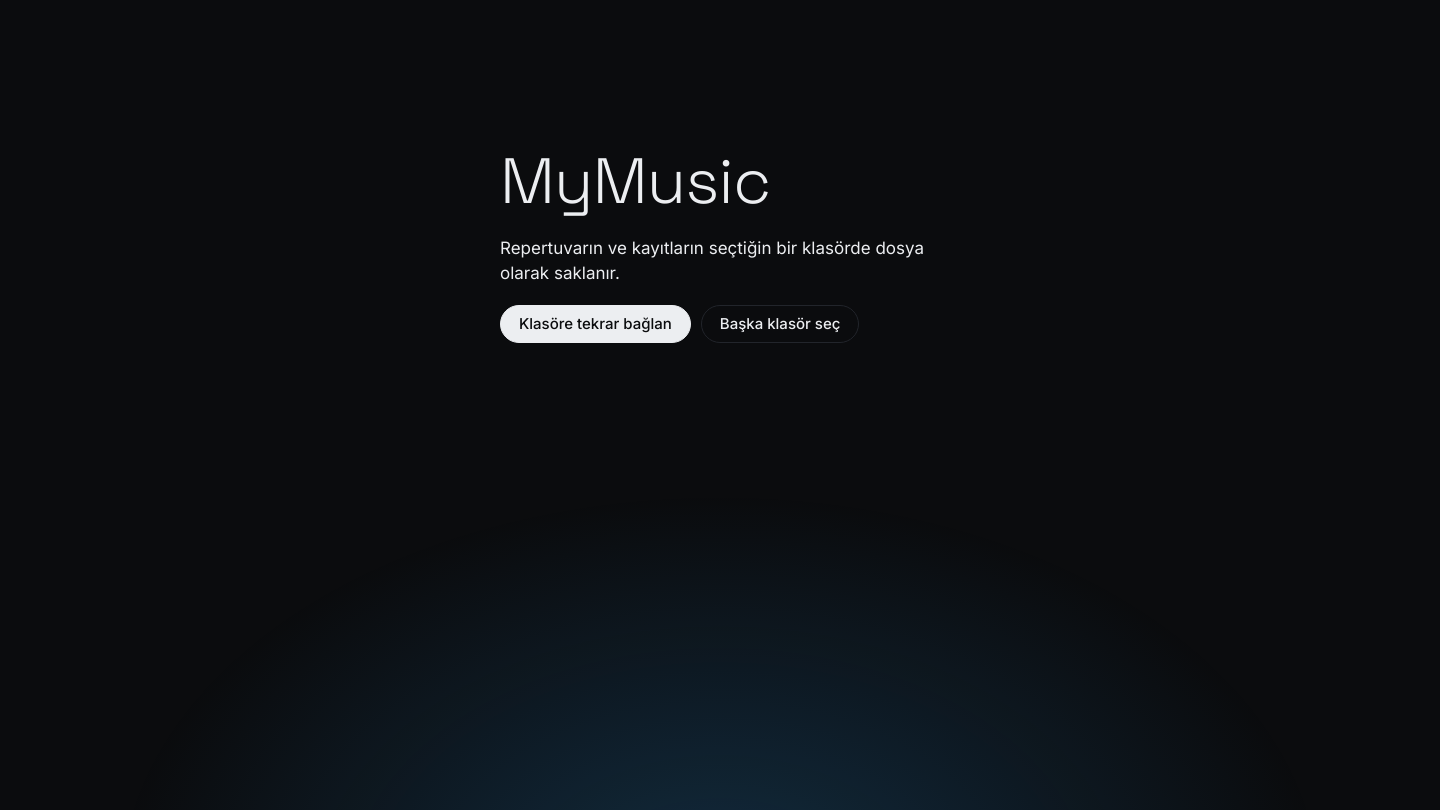
Test: App shell › denied reconnect shows feedback
This screenshot has width=1440, height=810.
Click the button "Klasöre tekrar bağlan": (595, 324) [500, 306, 691, 344]
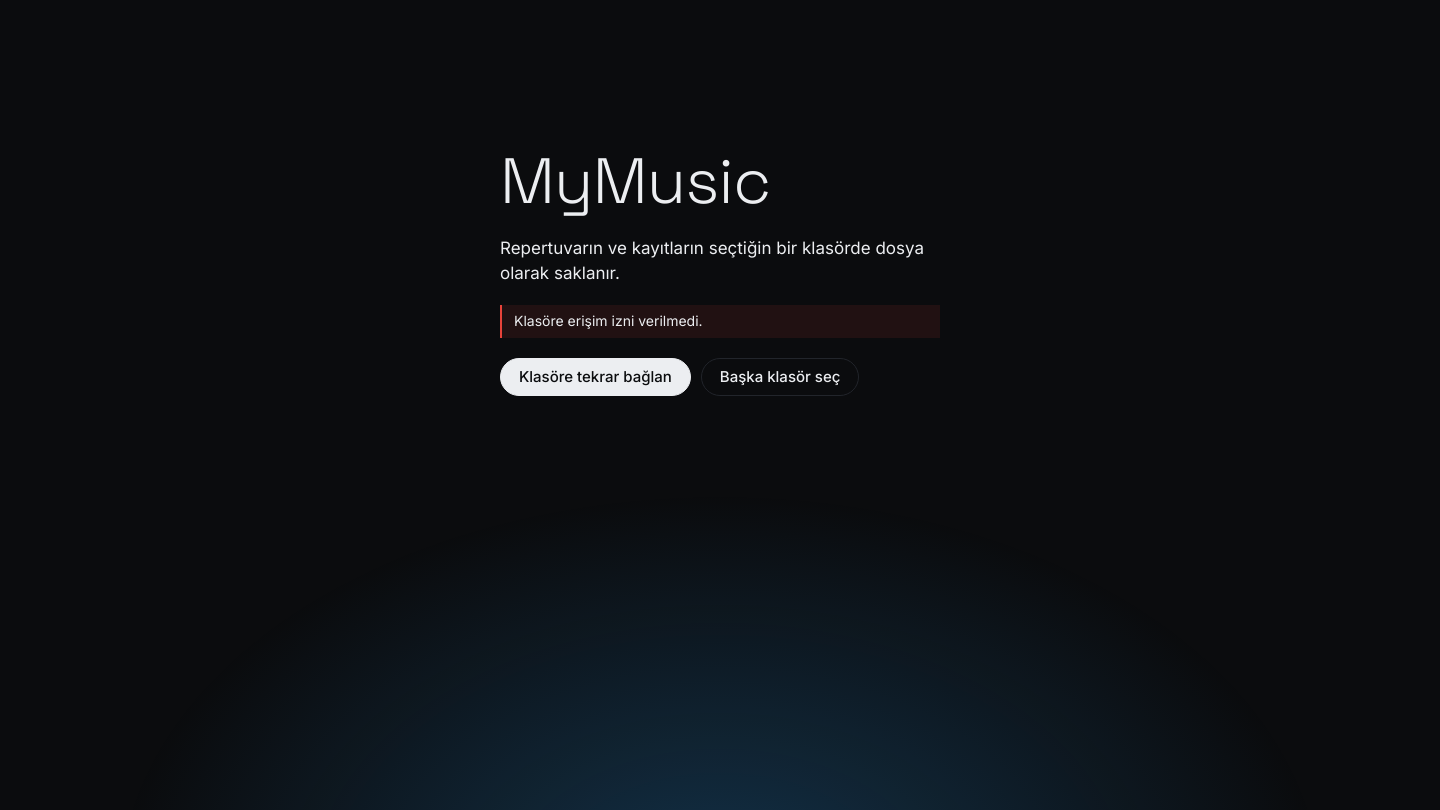
Expected: the button "Klasöre tekrar bağlan" is shown, [500, 358, 691, 396]
Result: the text "Klasöre erişim izni verilmedi." is shown at [500, 306, 940, 338]
